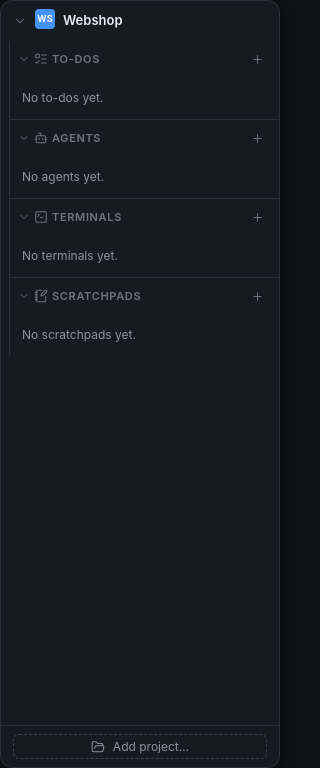
it: Sidebar project header › collapses the group from its caret button, not from keys on the picker
The width and height of the screenshot is (320, 768).
Note: Space on the focused picker belongs to the picker.
Press Space in the colour field named "Change colour of Webshop", box [35,9,55,29]
Click the button named "Collapse Webshop": click(20, 21) [13,14,27,28]
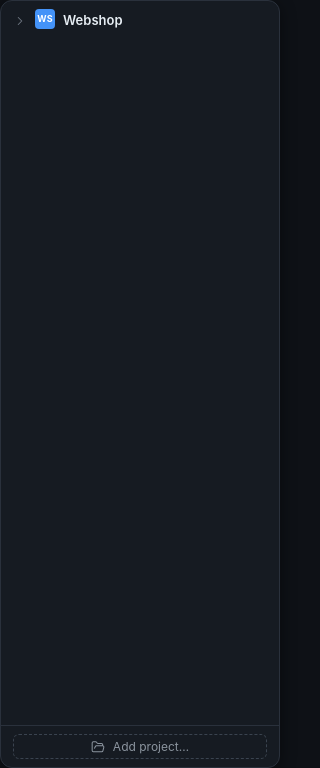
expect the button named "Expand Webshop" is collapsed: met, box [13,14,27,28]
